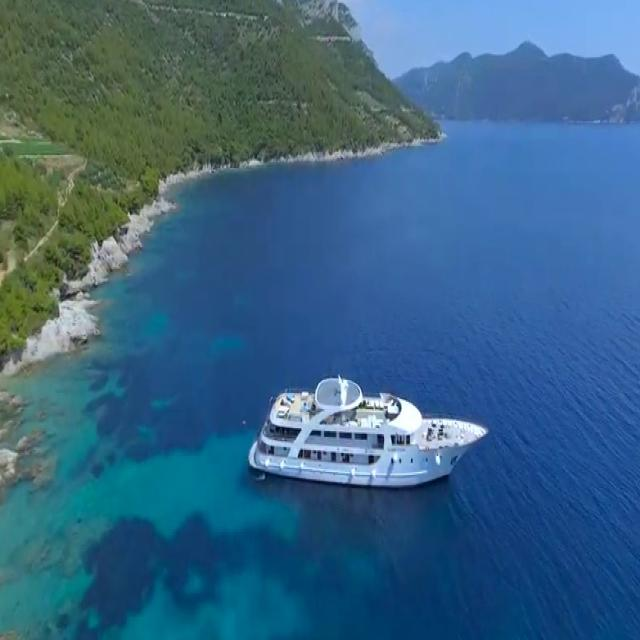passenger ship: (242, 368, 488, 492)
